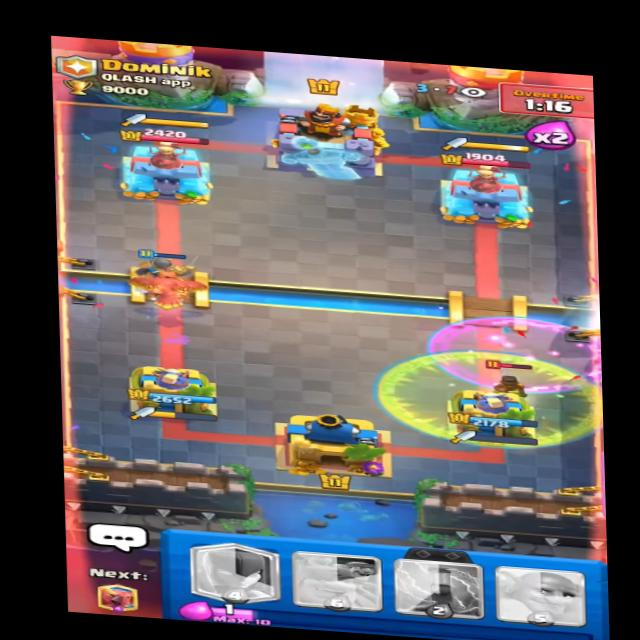ram-rider: (482, 355, 543, 408)
